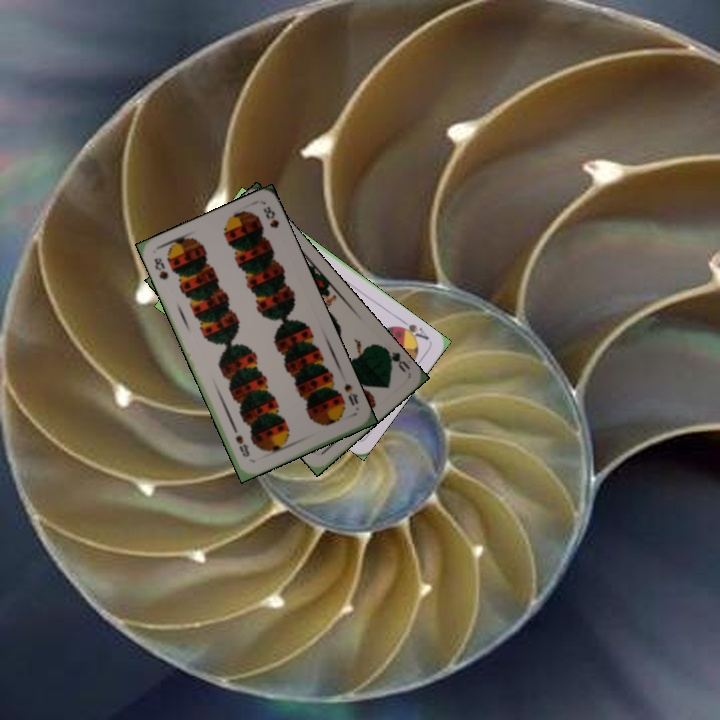GO: (379, 343, 413, 375)
S8: (340, 379, 361, 408), (150, 254, 171, 282)
SA: (393, 315, 432, 344)
